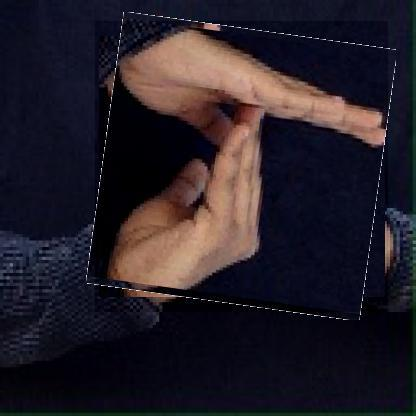Z: (95, 21, 389, 313)
